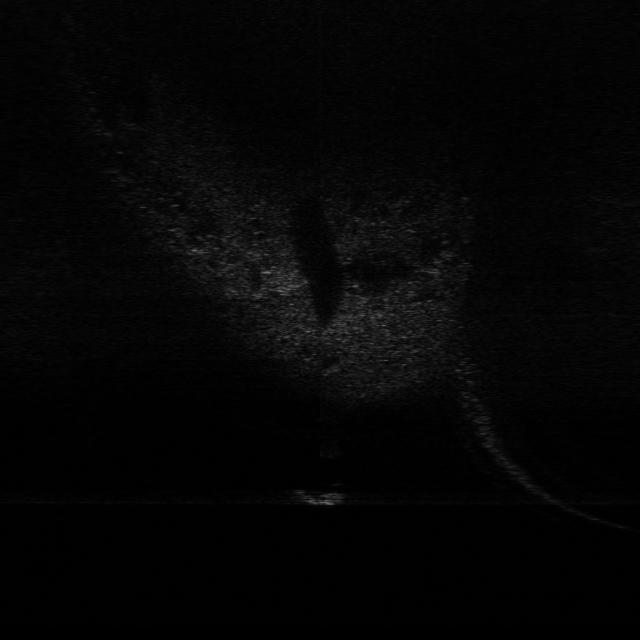cube: (291, 482, 348, 508)
